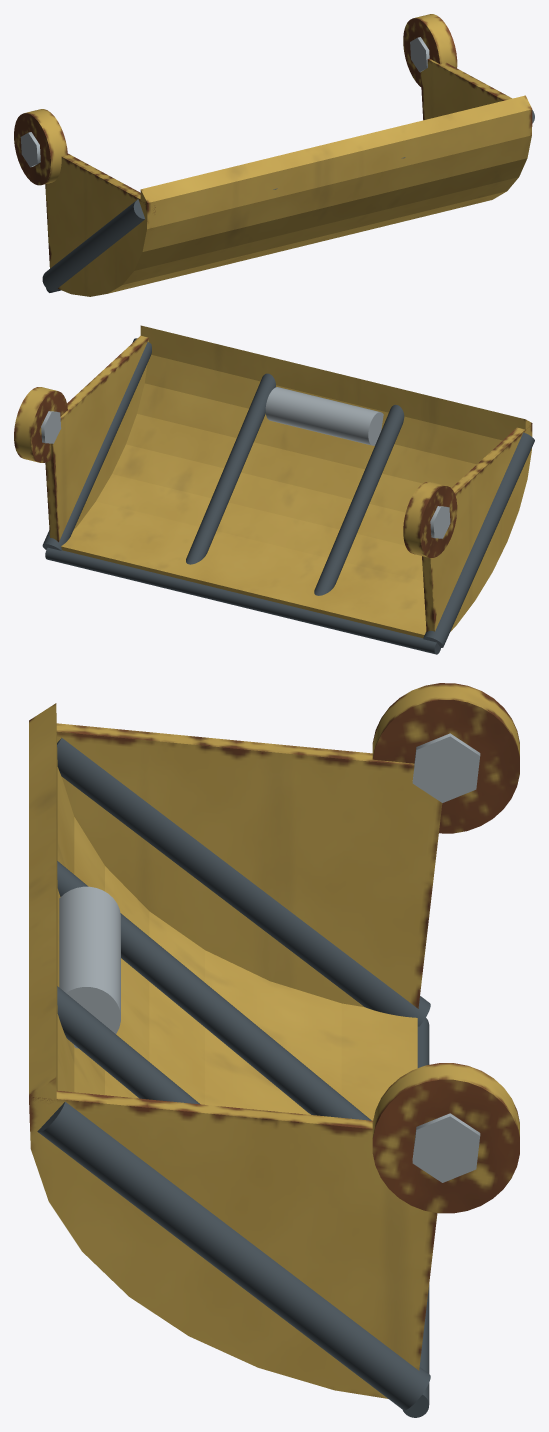
The model's file is grab_jaw_right.glb.
3 views of the same model, one above another, from view 1: azimuth 30°, elevation 25°; view 2: azimuth 150°, elevation 25°; view 3: azimuth 270°, elevation 25° (orthographic). The views are drawn at different scales.
Visible parts, largest first — view 1: grab_jaw_right; view 2: grab_jaw_right; view 3: grab_jaw_right.
Part boxes in pixels (x1,y1,x2,y2): grab_jaw_right: [14, 14, 534, 296]; grab_jaw_right: [14, 325, 534, 654]; grab_jaw_right: [29, 683, 519, 1417].
Size of the model in its own units: 1.93 by 0.774 by 0.9947.
3 materials, 1 textured.
